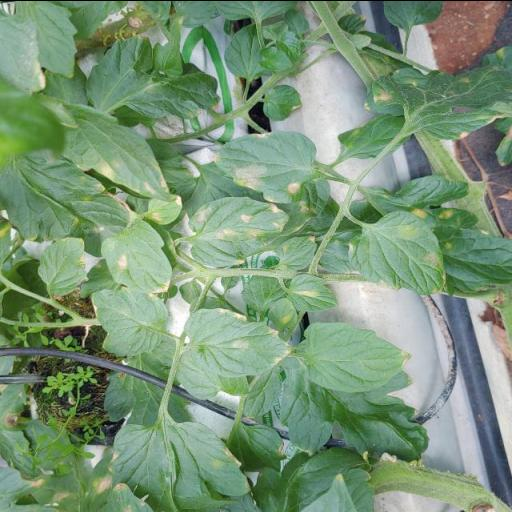Leaf Mold: (40, 93, 170, 199), (348, 208, 447, 294), (183, 306, 294, 378), (212, 130, 318, 202), (187, 194, 291, 266), (99, 216, 173, 292), (90, 288, 170, 357)
